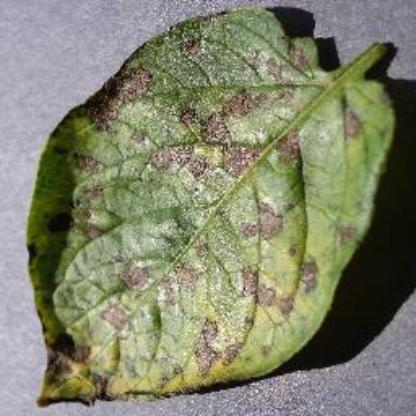Early-Blight: (24, 7, 404, 408)
